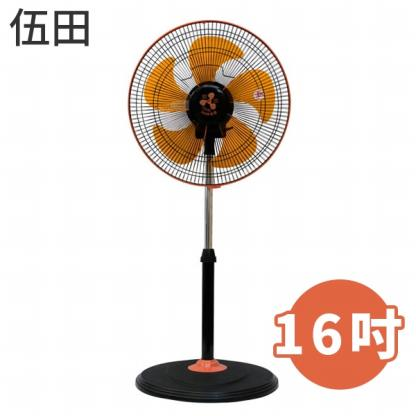fan: (115, 11, 311, 413)
